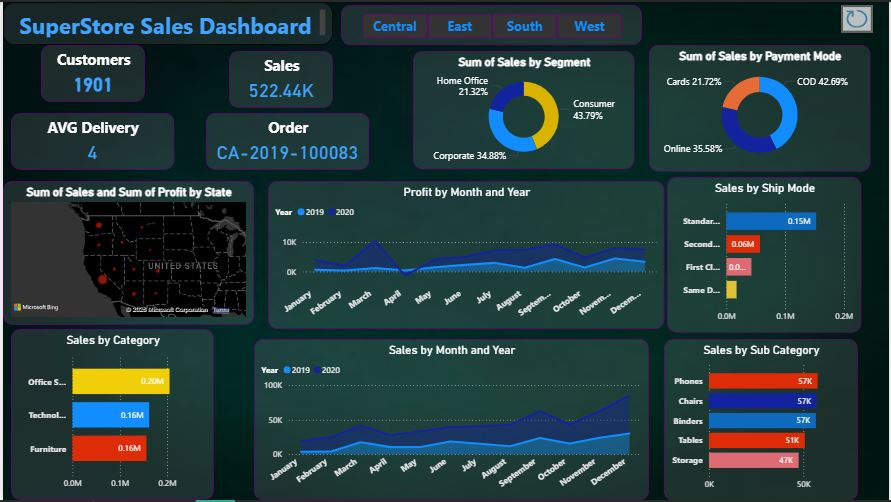

The dashboard page shown, as its layout file describes it:
{"tool":"powerbi","page":{"name":"Sales Dashboard","canvas":[1280,720],"ordinal":0},"visuals":[{"type":"clusteredBarChart","title":"Sales by Category","fields":{"Category":["Sheet1.Category"],"Y":["Sum(Sheet1.Sales)"]},"box":[11.6,472.8,293.5,247.2],"z":0},{"type":"clusteredBarChart","title":"Sales by Sub Category","fields":{"Category":["Sheet1.Sub-Category"],"Y":["Sum(Sheet1.Sales)"]},"box":[955.5,486.7,279.8,233.7],"z":1000},{"type":"clusteredBarChart","title":"Sales by Ship Mode","fields":{"Y":["Sum(Sheet1.Sales)"],"Category":["Sheet1.Ship Mode"]},"box":[960,253,281.3,224.7],"z":2000},{"type":"stackedAreaChart","title":" Sales by Month and Year","fields":{"Category":["Sheet1.Order Date.Variation.Date Hierarchy.Month","Sheet1.Order Date.Variation.Date Hierarchy.Day"],"Y":["Sum(Sheet1.Sales)"],"Series":["Sheet1.Order Date.Variation.Date Hierarchy.Year"]},"box":[362.9,487.2,571.1,232.8],"z":3000},{"type":"stackedAreaChart","title":" Profit by Month and Year","fields":{"Category":["Sheet1.Order Date.Variation.Date Hierarchy.Month","Sheet1.Order Date.Variation.Date Hierarchy.Day"],"Series":["Sheet1.Order Date.Variation.Date Hierarchy.Year"],"Y":["Sum(Sheet1.Profit)"]},"box":[382.5,259,573,214.3],"z":4000},{"type":"map","fields":{"Category":["Sheet1.State"],"Size":["Sum(Sheet1.Sales)"]},"box":[0,258.8,362.9,208.2],"z":5000},{"type":"donutChart","fields":{"Y":["Sum(Sheet1.Sales)"],"Category":["Sheet1.Payment Mode"]},"box":[934.7,62.5,320,183.1],"z":6000},{"type":"slicer","fields":{"Values":["Sheet1.Region"]},"box":[488.7,4.3,435.2,57.8],"z":7000},{"type":"textbox","box":[0,0,477.1,62.2],"z":8000},{"type":"card","title":"Sales","fields":{"Values":["Sum(Sheet1.Sales)"]},"box":[326.7,70.8,150.4,82.4],"z":9000},{"type":"card","title":"Order","fields":{"Values":["Min(Sheet1.Order ID)"]},"box":[293.5,160.5,235.7,82.4],"z":10000},{"type":"card","title":"Customers","fields":{"Values":["CountNonNull(Sheet1.Customer ID)"]},"box":[54.9,62.2,150.4,82.4],"z":11000},{"type":"donutChart","fields":{"Category":["Sheet1.Segment"],"Y":["Sum(Sheet1.Sales)"]},"box":[592.4,71.4,320,171.2],"z":12000},{"type":"card","title":"AVG Delivery","fields":{"Values":["Avg(Sheet1.Avg Delivery)"]},"box":[11.6,160.5,235.7,82.4],"z":13000},{"type":"actionButton","box":[1211.5,4.5,46.1,40.2],"z":14000}]}

Visuals, with their boxes in screenshot pixels (x1, y1, x2, y2), scaled from the page's 1280x720 canvas onto the 891x502 screenshot:
"Sales by Category" clusteredBarChart: select_region(8, 330, 212, 501)
"Sales by Sub Category" clusteredBarChart: select_region(665, 339, 860, 501)
"Sales by Ship Mode" clusteredBarChart: select_region(668, 176, 864, 333)
" Sales by Month and Year" stackedAreaChart: select_region(253, 340, 650, 501)
" Profit by Month and Year" stackedAreaChart: select_region(266, 181, 665, 330)
map - Sheet1.State x Sum(Sheet1.Sales): select_region(0, 180, 253, 326)
donutChart - Sum(Sheet1.Sales) x Sheet1.Payment Mode: select_region(651, 44, 873, 171)
slicer - Sheet1.Region: select_region(340, 3, 643, 43)
textbox: select_region(0, 0, 332, 43)
"Sales" card: select_region(227, 49, 332, 107)
"Order" card: select_region(204, 112, 368, 169)
"Customers" card: select_region(38, 43, 143, 101)
donutChart - Sheet1.Segment x Sum(Sheet1.Sales): select_region(412, 50, 635, 169)
"AVG Delivery" card: select_region(8, 112, 172, 169)
actionButton: select_region(843, 3, 875, 31)
